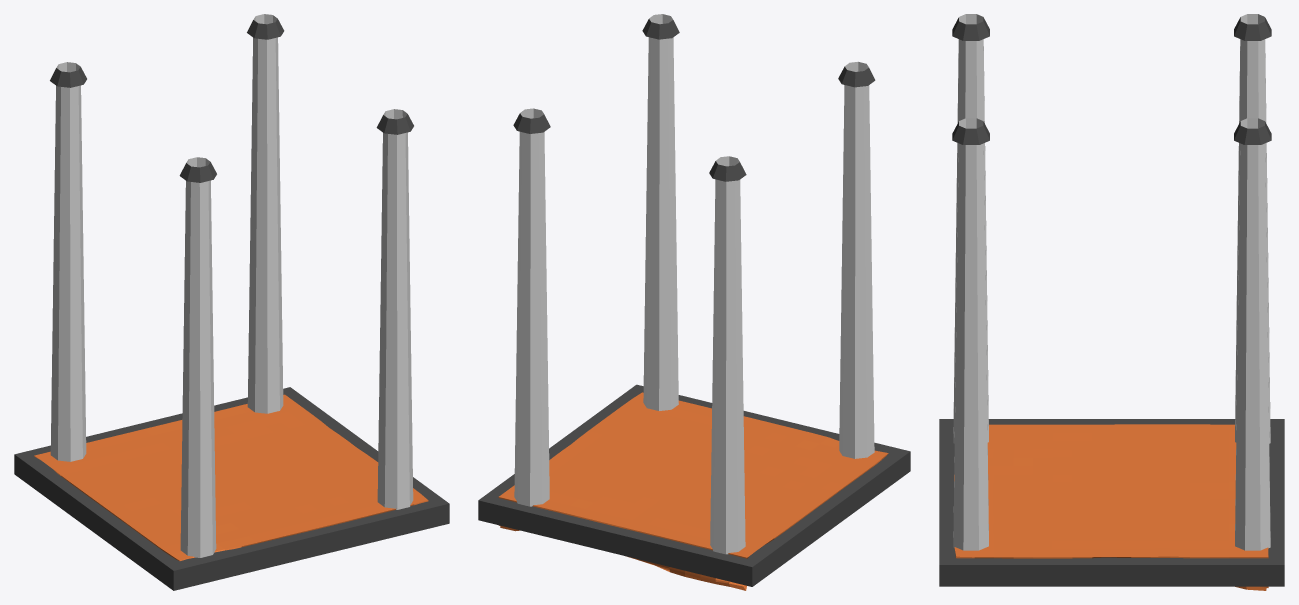
File: OnKrucheMarvela.fbx
The picture shows the model from 3 angles, left to right: view 1: azimuth 30°, elevation 25°; view 2: azimuth 150°, elevation 25°; view 3: azimuth 270°, elevation 25°; orthographic projection. The views are drawn at different scales.
Parts seen in each view (by area): view 1: Cube; view 2: Cube; view 3: Cube.
Part boxes in pixels (left/top/right/bottom): Cube: left=14, top=14, right=449, bottom=590; Cube: left=478, top=14, right=910, bottom=590; Cube: left=939, top=14, right=1284, bottom=590.
Size of the model in its own units: 200 by 292 by 200.
